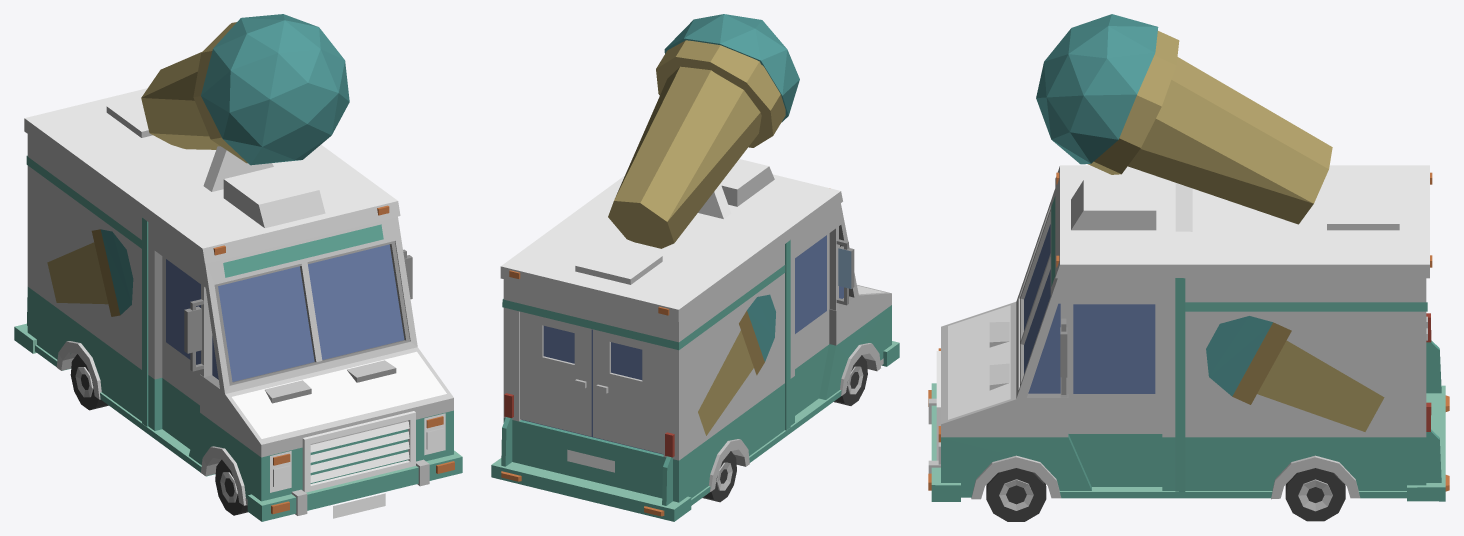
File: transport_bus_005.fbx
3 renders of one model, left to right at view 1: azimuth 30°, elevation 25°; view 2: azimuth 150°, elevation 25°; view 3: azimuth 270°, elevation 25°, orthographic. The views are drawn at different scales.
Parts seen in each view (by area): view 1: transport_bus_005; view 2: transport_bus_005; view 3: transport_bus_005.
Boxes of the visible parts, bbox=[...] form: transport_bus_005: bbox=[14, 14, 462, 521]; transport_bus_005: bbox=[491, 14, 899, 521]; transport_bus_005: bbox=[928, 14, 1449, 521].
Bounding box in the file's own units: 202 × 374 × 390.
